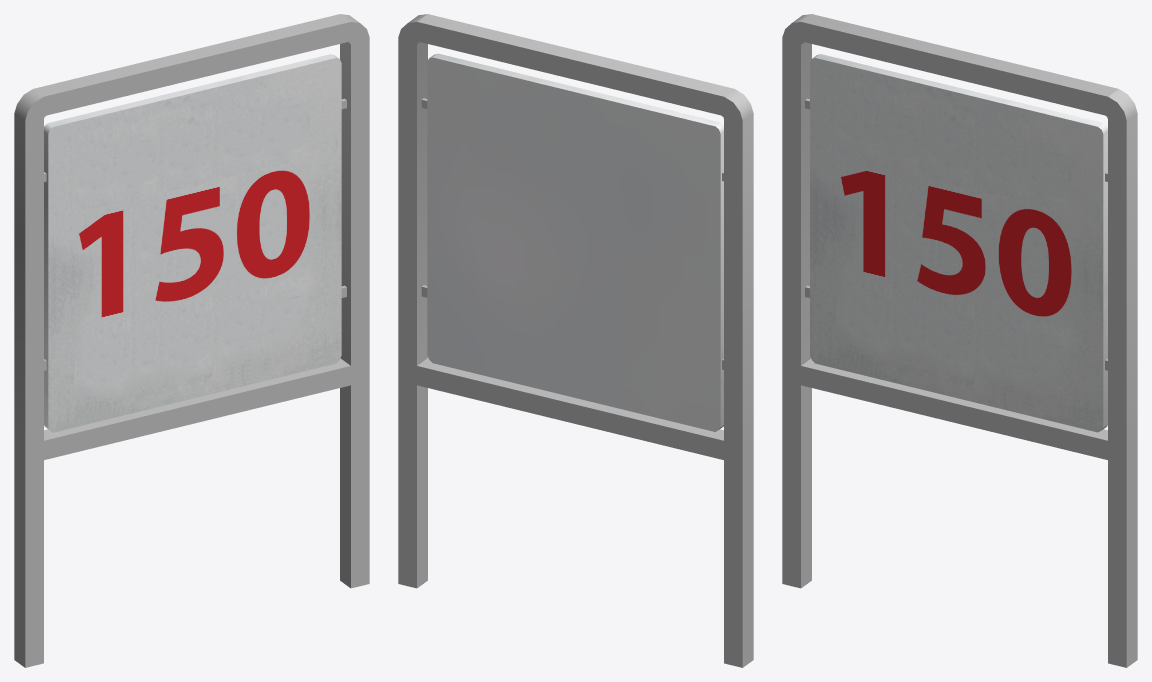
File: Track_Sign_150_Red.fbx
The picture shows the model from 3 angles, left to right: view 1: azimuth 30°, elevation 25°; view 2: azimuth 150°, elevation 25°; view 3: azimuth 330°, elevation 25°; orthographic projection.
Parts seen in each view (by area): view 1: Speed_150, Frame; view 2: Speed_150, Frame; view 3: Speed_150, Frame.
Boxes of the visible parts, <box> form: Speed_150: <box>44,54,341,432</box>; Frame: <box>14,14,369,667</box>; Speed_150: <box>427,53,723,431</box>; Frame: <box>398,14,753,667</box>; Speed_150: <box>810,54,1107,432</box>; Frame: <box>782,14,1137,667</box>.
Size of the model in its own units: 130 by 204 by 7.
